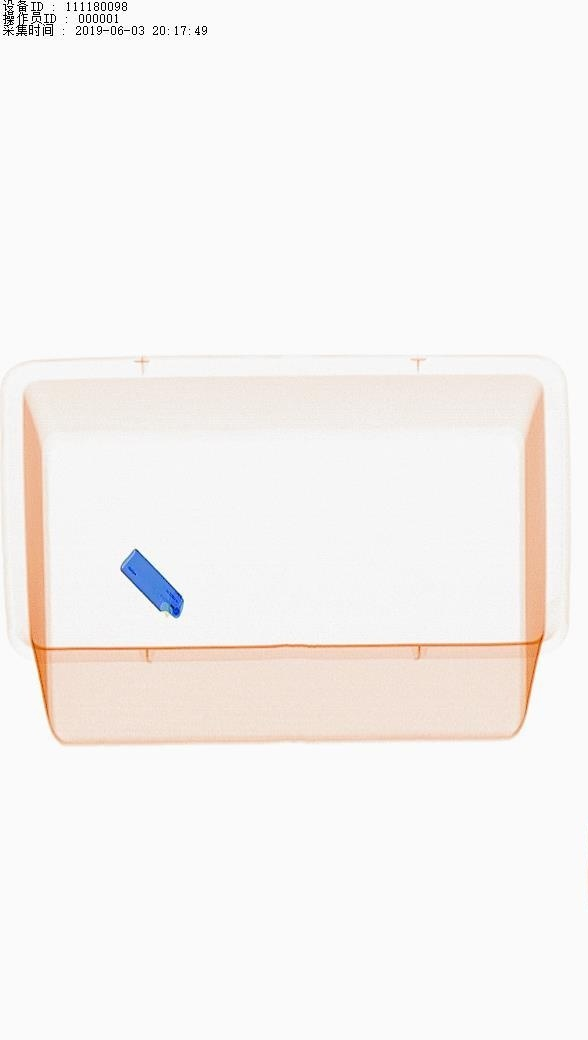NonmetallicFire: (115, 542, 199, 628)
